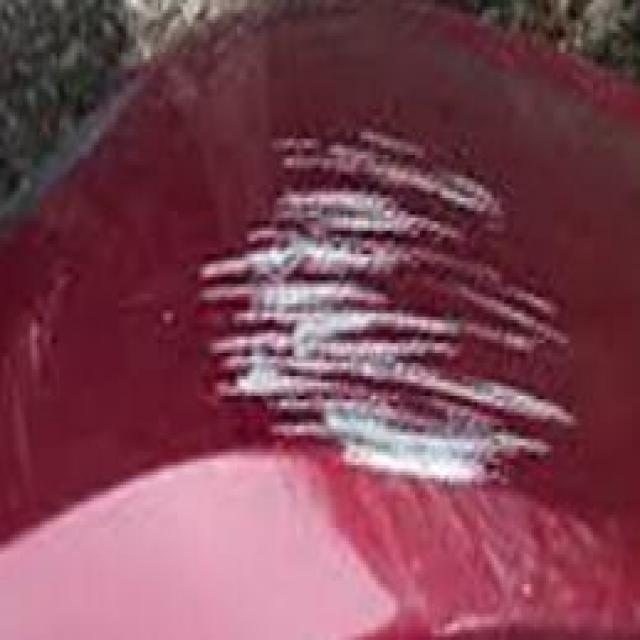scratch: (169, 116, 602, 512)
